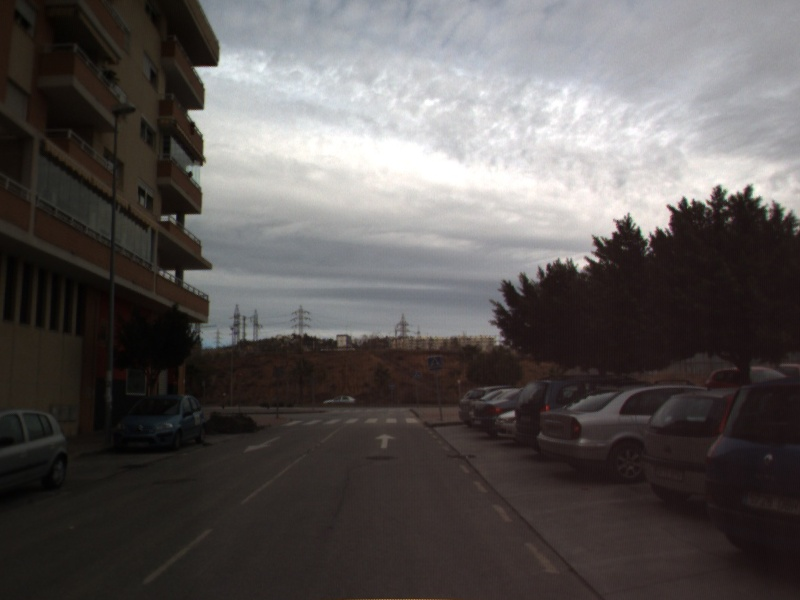STRAIGHT: (373, 432, 398, 450)
